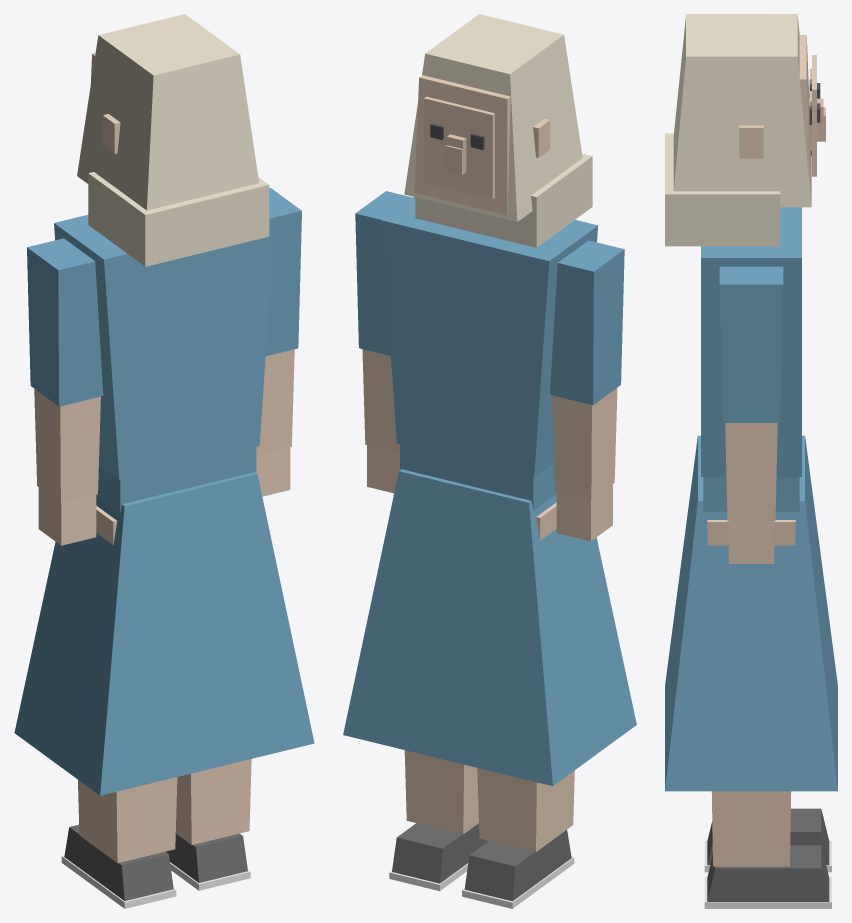
File: woman_scarf.glb
The picture shows the model from 3 angles, left to right: view 1: azimuth 30°, elevation 25°; view 2: azimuth 150°, elevation 25°; view 3: azimuth 270°, elevation 25°; orthographic projection. The views are drawn at different scales.
Parts seen in each view (by area): view 1: Torso, HeadMesh, ArmMesh, LegMesh, ArmMesh2, LegMesh2; view 2: Torso, HeadMesh, ArmMesh, LegMesh, LegMesh2, ArmMesh2; view 3: Torso, HeadMesh, ArmMesh2, LegMesh2, LegMesh.
Boxes of the visible parts, left/top/right/bottom form: Torso: left=14, top=214, right=314, bottom=795; HeadMesh: left=77, top=14, right=269, bottom=266; ArmMesh: left=27, top=238, right=103, bottom=545; LegMesh: left=61, top=506, right=177, bottom=908; ArmMesh2: left=256, top=188, right=301, bottom=496; LegMesh2: left=166, top=759, right=251, bottom=890; Torso: left=343, top=197, right=636, bottom=786; HeadMesh: left=404, top=14, right=592, bottom=247; ArmMesh: left=550, top=240, right=624, bottom=541; LegMesh: left=462, top=502, right=574, bottom=908; LegMesh2: left=389, top=750, right=488, bottom=891; ArmMesh2: left=355, top=191, right=412, bottom=493; Torso: left=665, top=207, right=837, bottom=791; HeadMesh: left=665, top=14, right=825, bottom=246; ArmMesh2: left=719, top=266, right=783, bottom=563; LegMesh2: left=704, top=520, right=831, bottom=908; LegMesh: left=704, top=808, right=831, bottom=872.
Bounding box in the file's own units: 0.591 × 1.94 × 0.36.
